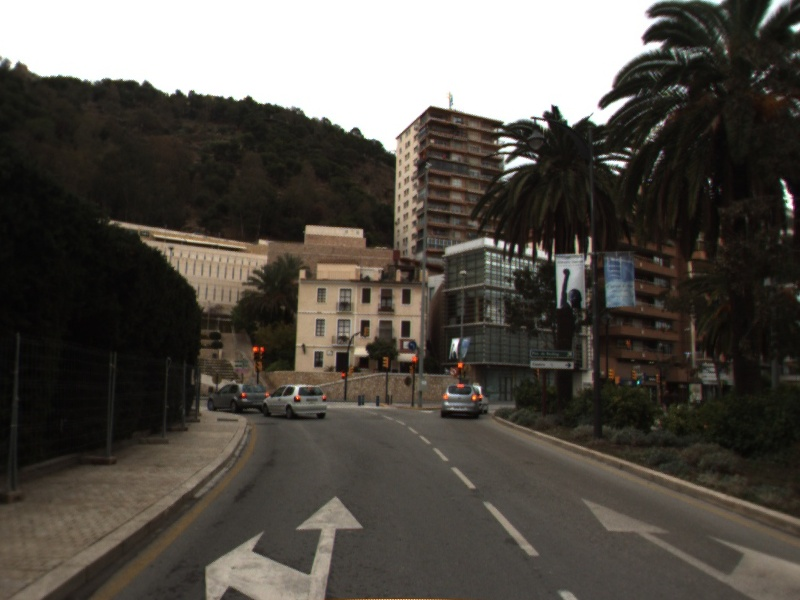STRAIGHT_LEFT: (203, 494, 365, 600)
STRAIGHT_RIGHT: (579, 496, 800, 600)
